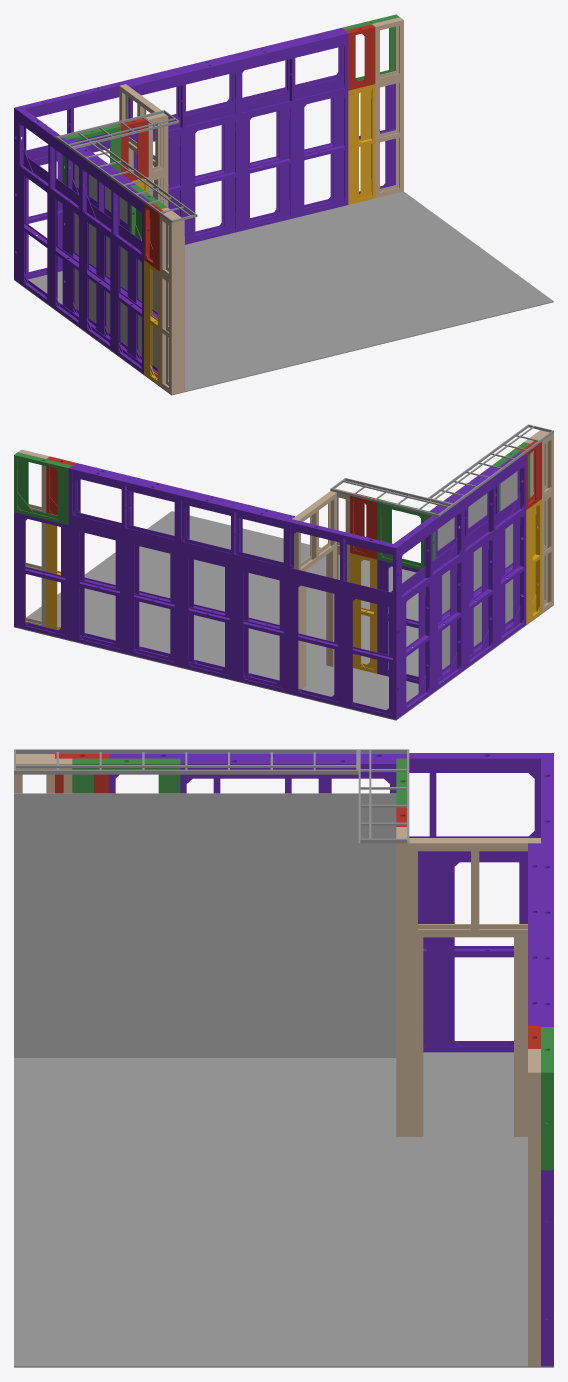
3 renders of one model, top to bottom at view 1: azimuth 30°, elevation 25°; view 2: azimuth 150°, elevation 25°; view 3: azimuth 270°, elevation 25°, orthographic. The views are drawn at different scales.
Visible parts, largest first — view 1: Пол 16 мм, Body18 (×16), Body17 (×8), Лист МДФ 1, Body23 (×3), Body2 (×2), Лист МДФ 2, Торец 2 (×2), Body22, Стойка 4, Стойка 2; view 2: Body18 (×26), Пол 16 мм, Body17 (×16), Body22 (×12), Body15 (×10), Body23 (×3), Лист МДФ 1, Лист МДФ 2, Панель 1 (×2), Body1 (×2), Труба 40x20x2 1 (×2), Труба 40x20x2 2 (×2) (+7 smaller); view 3: Пол 16 мм, Лист МДФ 2, Лист МДФ 1, Торец 2 (×4), Панель 2 (×2), Body15 (×5), Body16 (×4), Body17 (×2), Body18 (×3), Body23 (×3), Труба 40x20x2 2, Труба 40x20x2 1 (+4 smaller).
Part boxes in pixels (x1,y1,x2,y2): Пол 16 мм: (14,191,553,395); Body18 (×16): (17,78,395,358); Body17 (×8): (21,34,344,250); Лист МДФ 1: (75,164,125,343); Body23 (×3): (144,91,371,375); Body2 (×2): (137,27,375,179); Лист МДФ 2: (125,201,184,390); Торец 2 (×2): (172,277,183,394); Body22: (348,91,358,201); Стойка 4: (399,81,403,187); Стойка 2: (375,87,379,193); Body18 (×26): (14,455,524,713); Пол 16 мм: (14,511,553,720); Body17 (×16): (61,466,519,713); Body22 (×12): (65,469,526,716); Body15 (×10): (69,463,523,718); Body23 (×3): (46,509,532,666); Лист МДФ 1: (437,497,481,669); Лист МДФ 2: (481,452,533,640); Панель 1 (×2): (298,570,306,689); Body1 (×2): (366,442,541,559); Труба 40x20x2 1 (×2): (330,430,553,517); Труба 40x20x2 2 (×2): (345,424,528,506); Пол 16 мм: (14,1052,553,1367); Лист МДФ 2: (14,793,216,1057); Лист МДФ 1: (217,793,396,1057); Торец 2 (×4): (397,843,539,1366); Панель 2 (×2): (409,937,527,1136); Body15 (×5): (529,753,552,1026); Body16 (×4): (109,753,552,1366); Body17 (×2): (409,836,534,1046); Body18 (×3): (187,753,534,1024); Body23 (×3): (187,758,534,1046); Труба 40x20x2 2: (14,769,358,774); Труба 40x20x2 1: (14,749,358,753).
Size of the model in its own units: 7 by 3.06 by 5.
